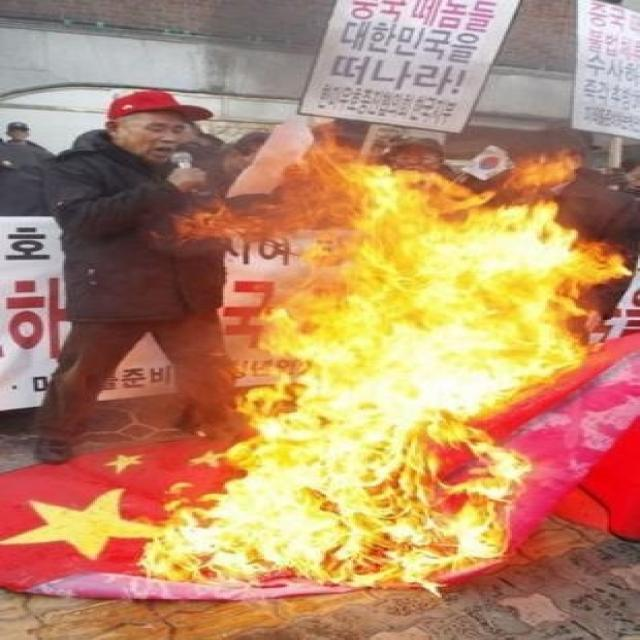Fire: (134, 118, 640, 599)
